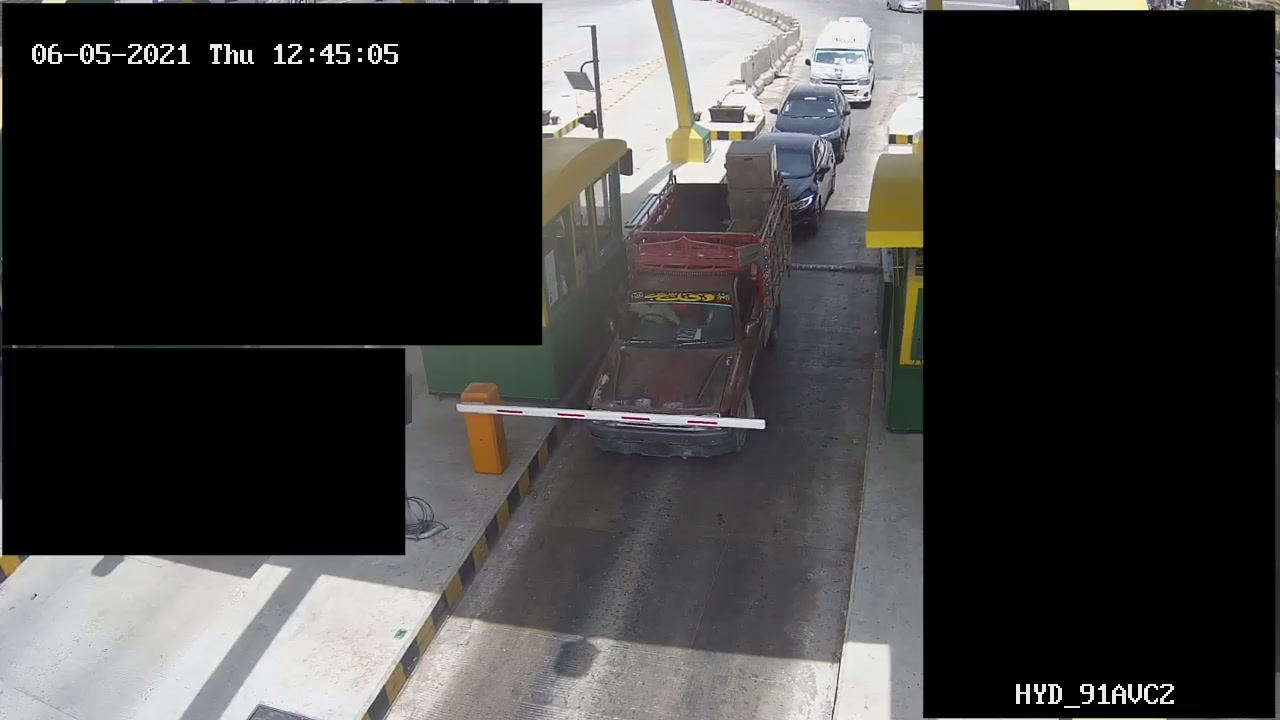F1: (590, 166, 809, 459)
